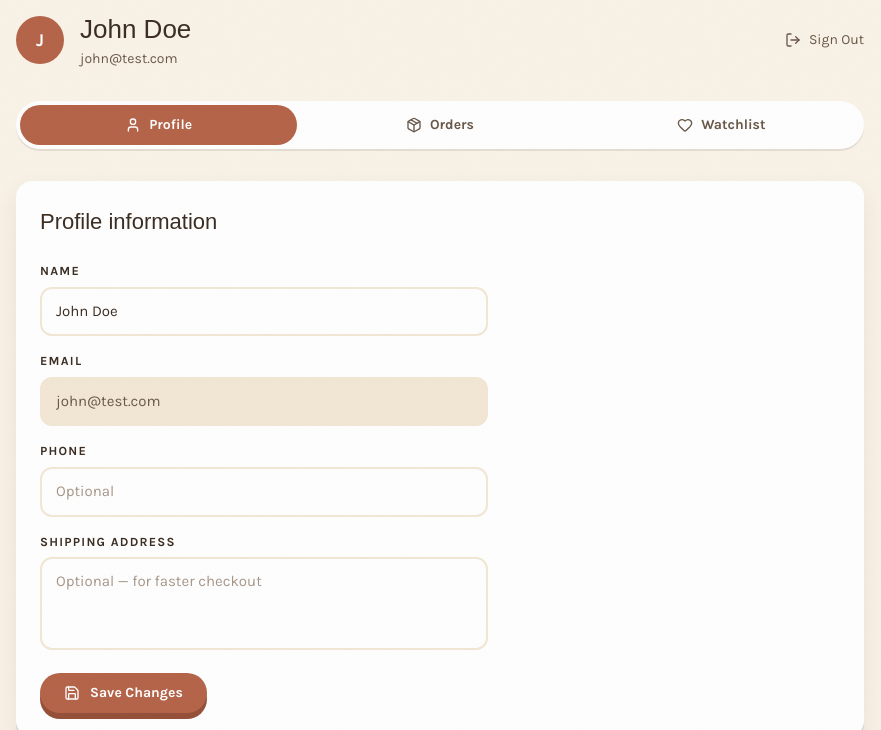
Test: AccountPage › switches to Watchlist tab showing empty state
Click the button "Watchlist" at (721, 125), box [583,105,860,145]
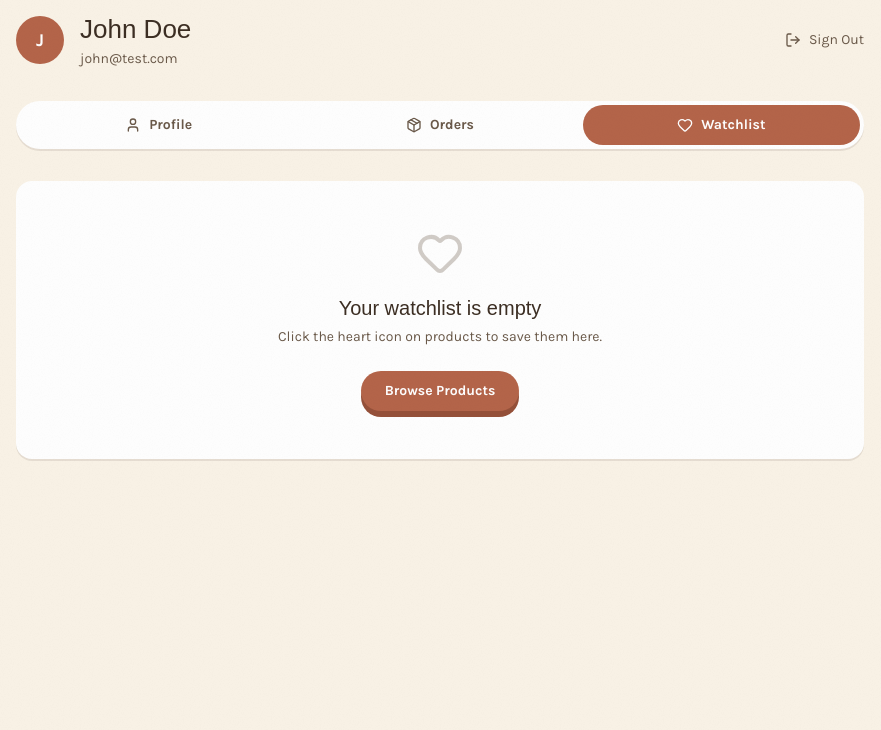
Expected: the heading "Your watchlist is empty" is shown, [339,297,541,319]
